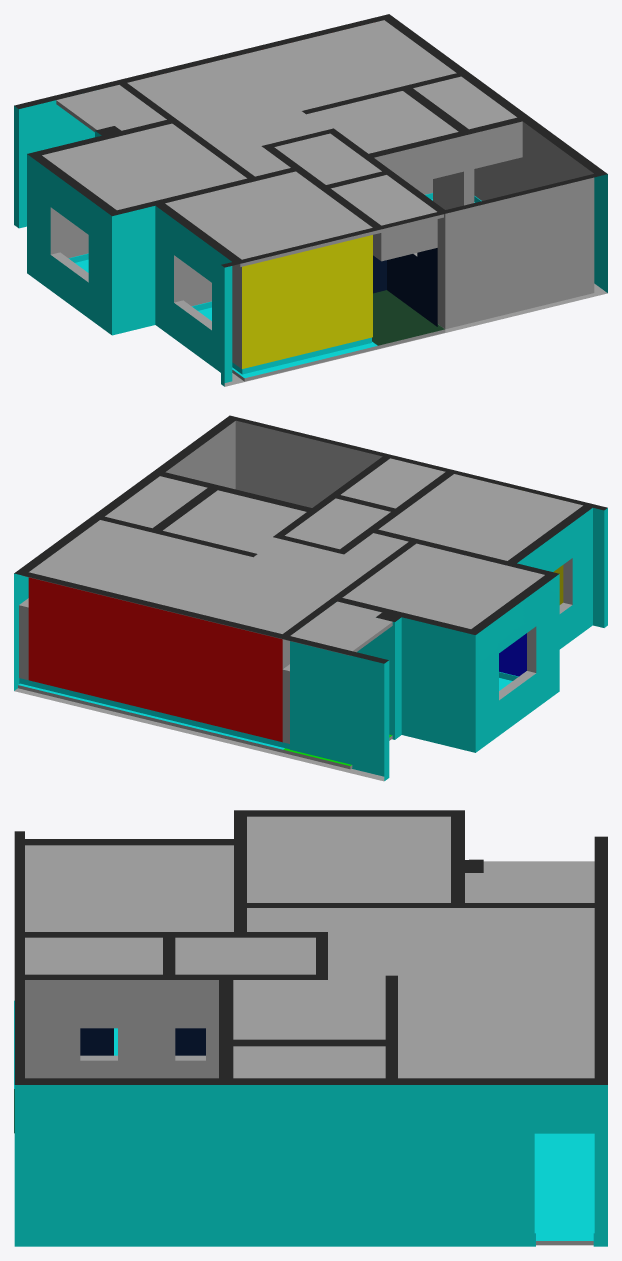
Rendered from VO_APT03.fbx.
3 renders of one model, top to bottom at view 1: azimuth 30°, elevation 25°; view 2: azimuth 150°, elevation 25°; view 3: azimuth 270°, elevation 25°, orthographic. The views are drawn at different scales.
Parts seen in each view (by area): view 1: MS_Roof, MS_Wall, MS_Wall1, MS_Wall4, polySurface2, MS_Floor, polySurface3, MS_Wall3; view 2: MS_Roof, MS_Wall1, polySurface6, MS_Wall, MS_Wall4, MS_Floor, MS_Wall3, polySurface1; view 3: MS_Roof, MS_Wall1, MS_Wall4, MS_Wall, MS_Floor, polySurface3, polySurface4.
Part boxes in pixels (x1,y1,x2,y2): MS_Roof: (42, 20, 516, 266); MS_Wall: (50, 121, 607, 386); MS_Wall1: (14, 100, 607, 386); MS_Wall4: (14, 14, 607, 267); polySurface2: (242, 235, 372, 368); MS_Floor: (75, 199, 474, 381); polySurface3: (373, 248, 437, 326); MS_Wall3: (69, 193, 481, 374); MS_Roof: (22, 458, 582, 655); MS_Wall1: (14, 508, 607, 780); polySurface6: (28, 577, 282, 742); MS_Wall: (14, 420, 572, 781); MS_Wall4: (14, 415, 607, 663); MS_Floor: (18, 678, 512, 769); MS_Wall3: (19, 672, 518, 749); polySurface1: (499, 633, 526, 676); MS_Roof: (25, 816, 594, 1078); MS_Wall1: (14, 1085, 607, 1246); MS_Wall4: (14, 810, 607, 1084); MS_Wall: (25, 980, 218, 1078); MS_Floor: (14, 1000, 593, 1245); polySurface3: (80, 1028, 113, 1055); polySurface4: (175, 1028, 205, 1055).
Bounding box in the file's own units: 1093 × 300 × 998.
